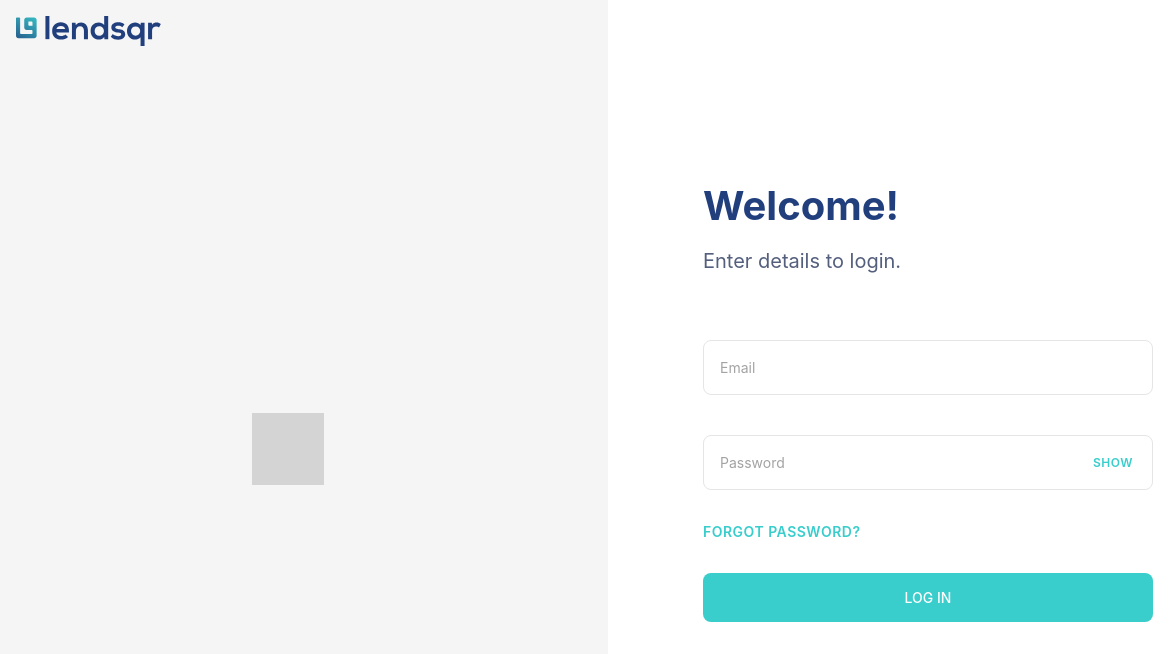
Test case: Login Page › should show error for invalid email format
In the field with placeholder "Email": [928, 367] box [703,340,1153,395], type "invalid-email"
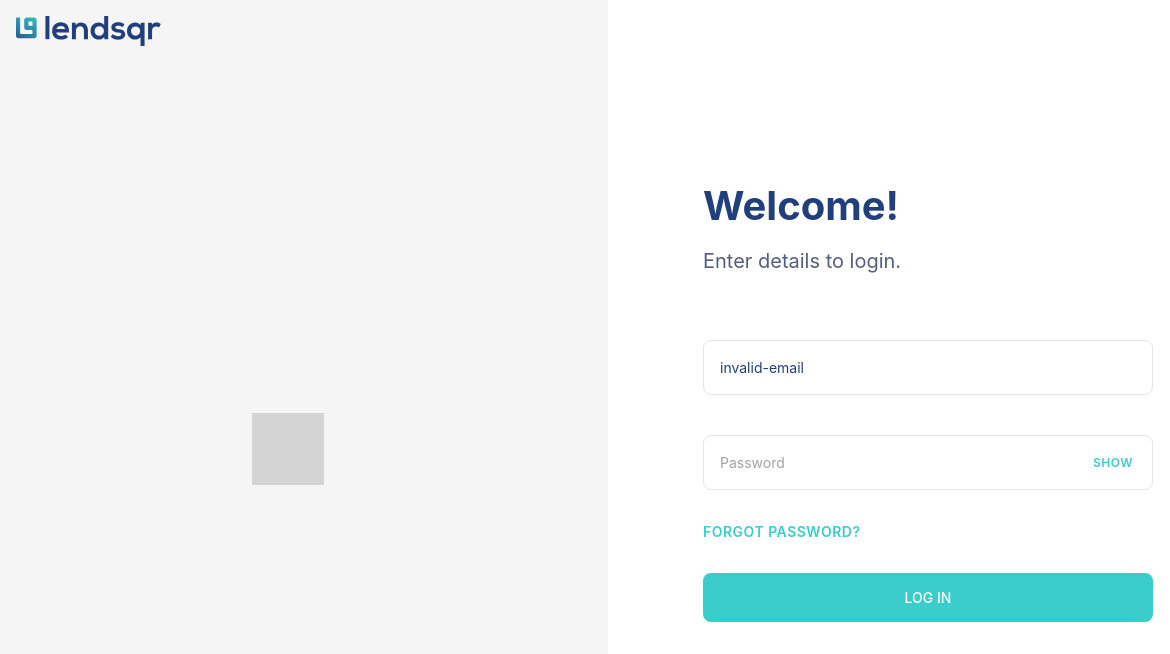
In the password field with placeholder "Password": [928, 462] box [703,435,1153,490], type "password123"
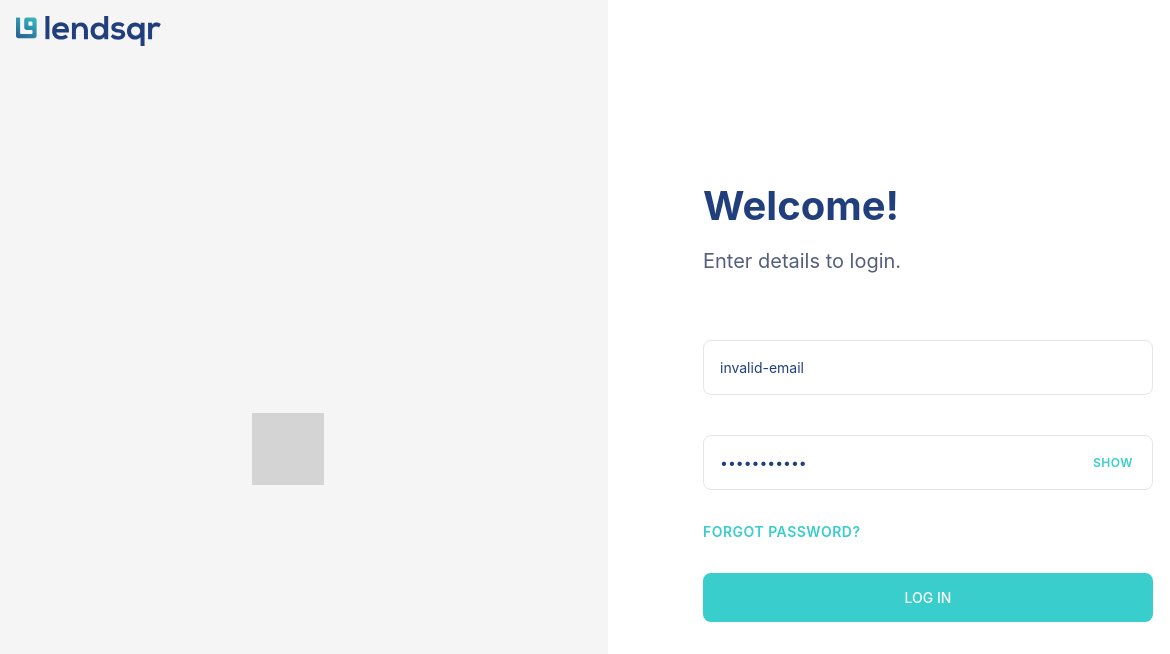
Click the button "LOG IN": [928, 598] box [703,573,1153,622]
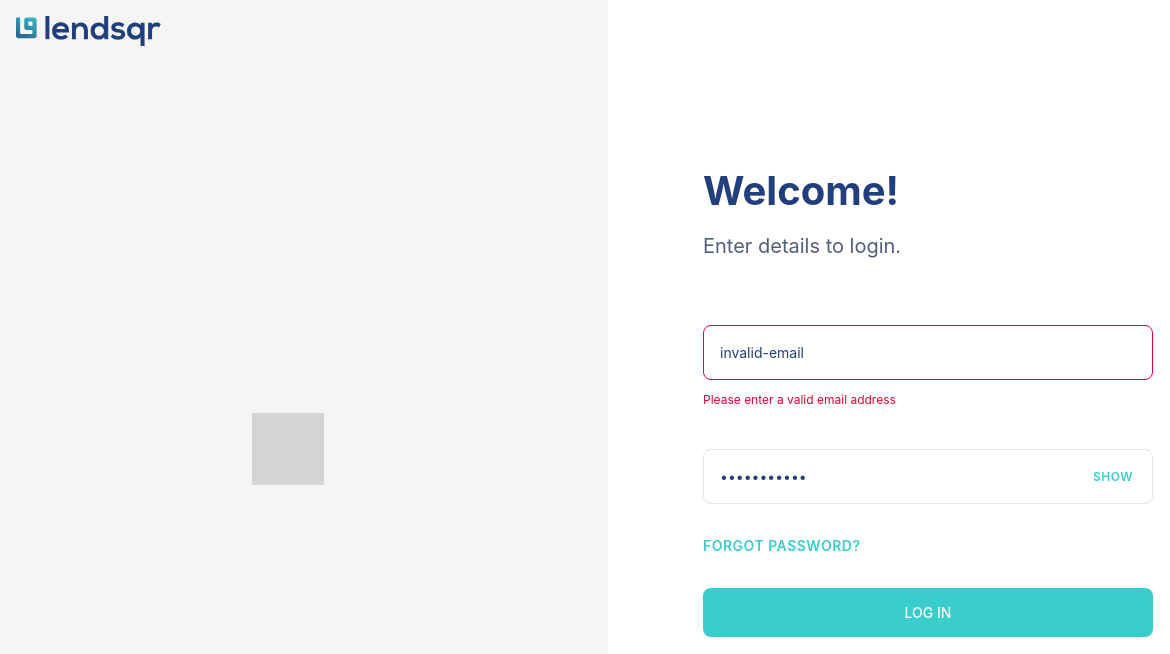
Expected: the text "Please enter a valid email address" is shown, [703,392,896,407]
